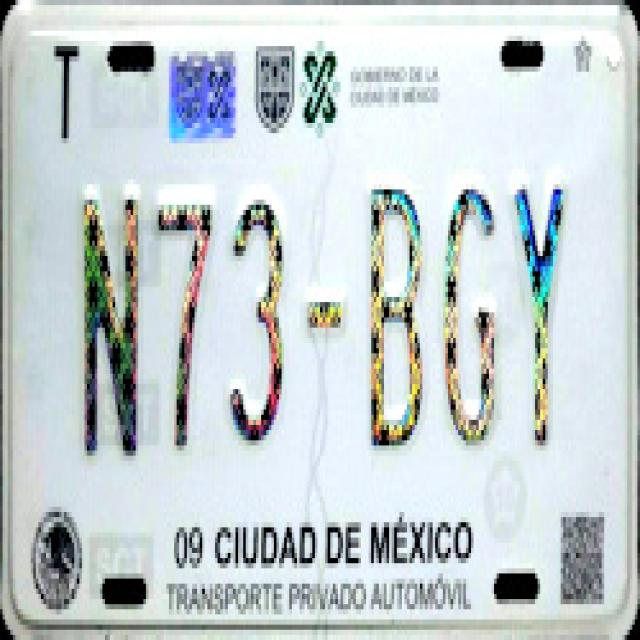placa: (6, 154, 628, 471)
